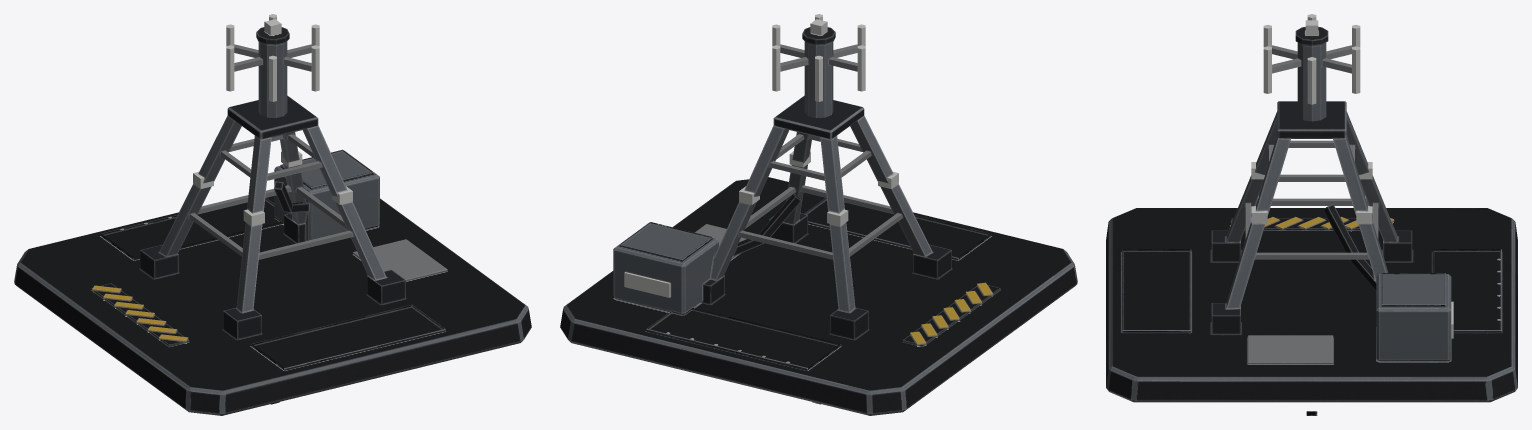
File: chs_smog.fbx
3 renders of one model, left to right at view 1: azimuth 30°, elevation 25°; view 2: azimuth 150°, elevation 25°; view 3: azimuth 270°, elevation 25°, orthographic. The views are drawn at different scales.
Parts seen in each view (by area): view 1: base_bar, spine_bar, spine_glow_power_bar, base_glow_running_bar; view 2: base_bar, spine_bar, spine_glow_power_bar, base_glow_running_bar, base_glow_power_bar; view 3: base_bar, spine_bar, spine_glow_power_bar, base_glow_running_bar.
Boxes of the visible parts, x1,y1,x2,y2 form: base_bar: (14,95,531,415); spine_bar: (234,27,311,117); spine_glow_power_bar: (226,14,319,101); base_glow_running_bar: (193,151,352,226); base_bar: (560,95,1077,415); spine_bar: (780,27,857,117); spine_glow_power_bar: (772,14,865,101); base_glow_running_bar: (739,151,898,226); base_glow_power_bar: (624,272,670,297); base_bar: (1106,101,1517,402); spine_bar: (1272,27,1351,121); spine_glow_power_bar: (1263,14,1360,104); base_glow_running_bar: (1251,162,1372,223).
Bounding box in the file's own units: 769 × 805 × 769.
2 materials, 2 textured.
